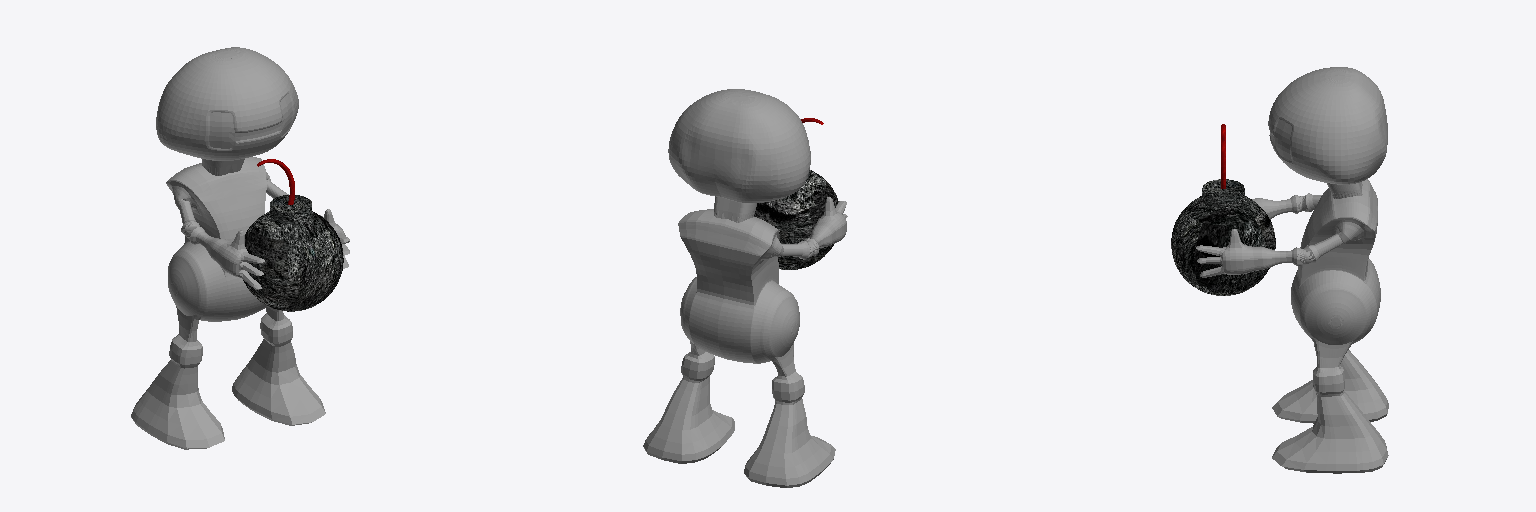
The picture shows the model from 3 angles: view 1: azimuth 30°, elevation 25°; view 2: azimuth 150°, elevation 25°; view 3: azimuth 270°, elevation 25°; orthographic projection.
Parts seen in each view (by area): view 1: Cylinder, Cylinder.001; view 2: Cylinder, Cylinder.001; view 3: Cylinder, Cylinder.001.
Part boxes in pixels (x1,y1,x2,y2): Cylinder: (131, 47, 349, 449); Cylinder.001: (243, 159, 343, 311); Cylinder: (643, 89, 847, 487); Cylinder.001: (754, 118, 838, 269); Cylinder: (1196, 67, 1388, 473); Cylinder.001: (1171, 124, 1275, 295).
Size of the model in its own units: 2.41 by 5.08 by 2.78.
Materials: 2 (1 with a texture image).